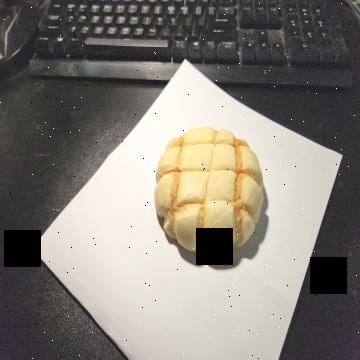melon_bread: (153, 126, 265, 256)
